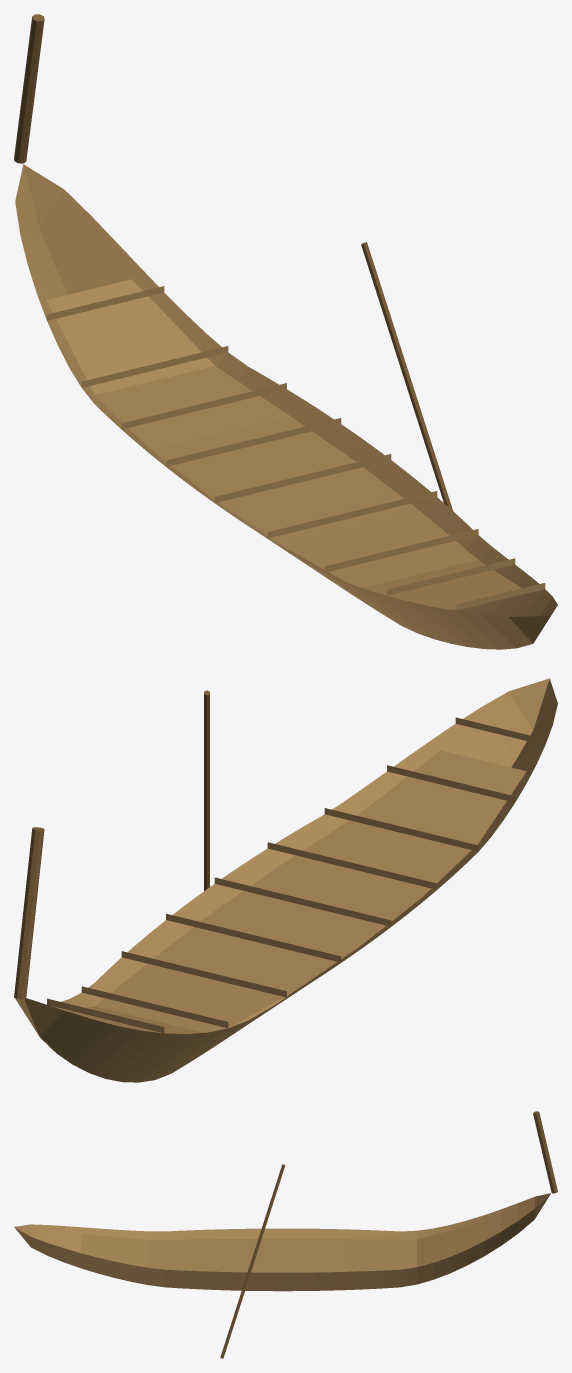
Rendered from boat.glb.
3 renders of one model, top to bottom at view 1: azimuth 30°, elevation 25°; view 2: azimuth 150°, elevation 25°; view 3: azimuth 270°, elevation 25°, orthographic. The views are drawn at different scales.
Parts seen in each view (by area): view 1: BoatMesh; view 2: BoatMesh; view 3: BoatMesh.
Boxes of the visible parts, x1,y1,x2,y2 form: BoatMesh: [14, 14, 557, 649]; BoatMesh: [14, 678, 557, 1082]; BoatMesh: [14, 1111, 557, 1358].
Bounding box in the file's own units: 2.28 × 3.91 × 9.11.
